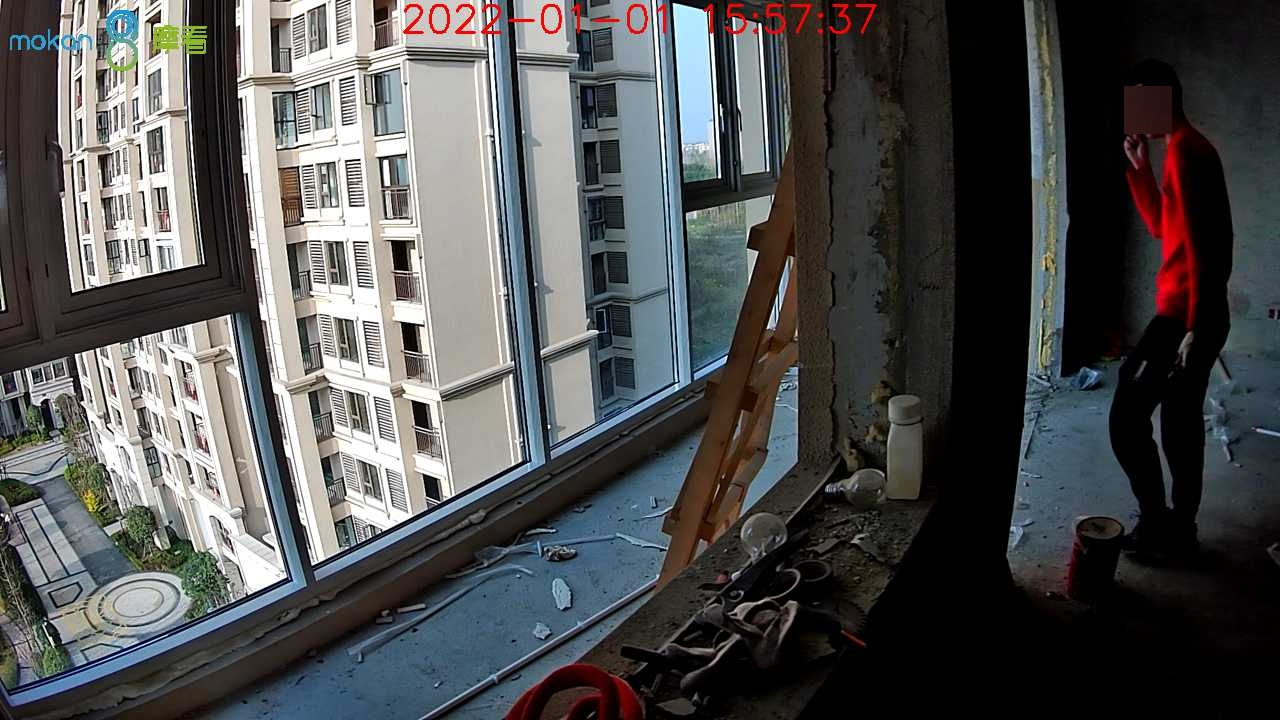people: (1111, 63, 1242, 555)
window: (6, 2, 799, 696)
